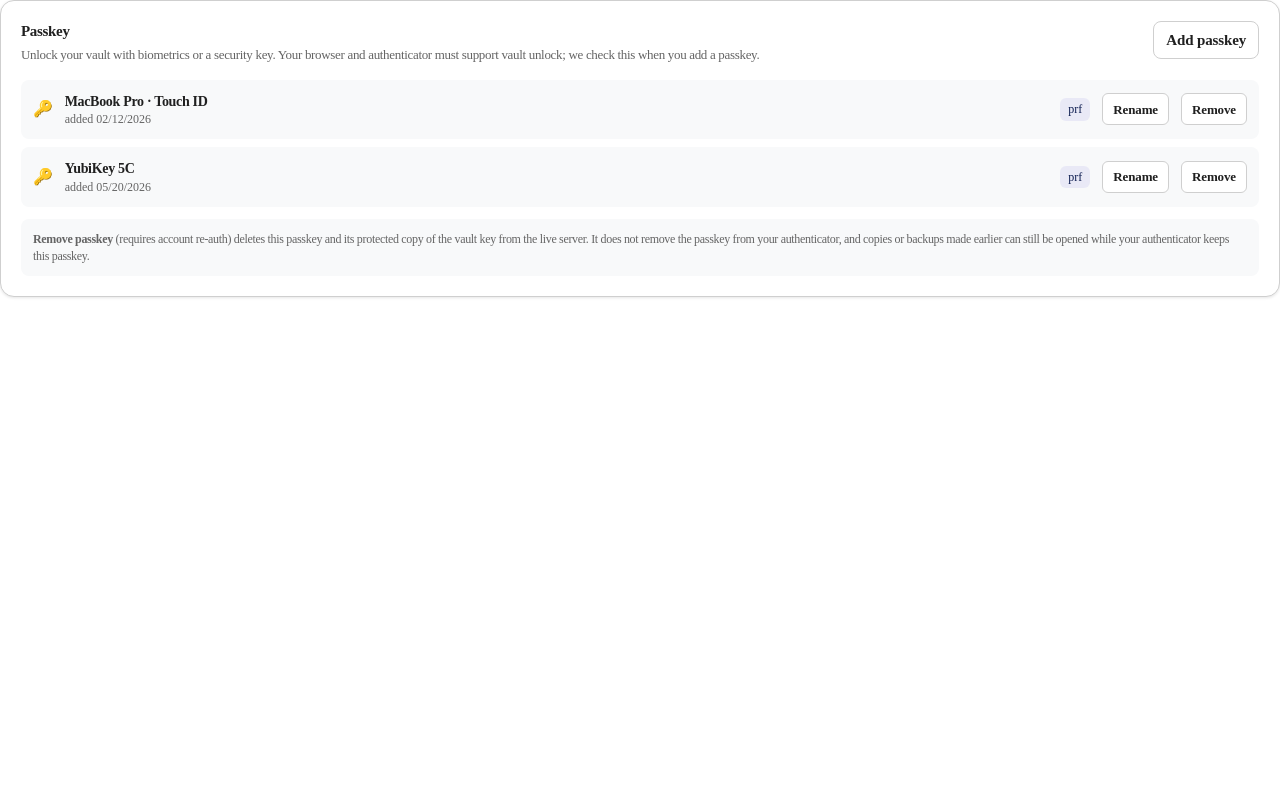
Test: P03-T20B Settings passkey list, rename, revoke and auto-lock (Task 20 20B) › 20B: revoke passkey acquires vault.passkey_revoke grant when needed, deletes on server, and reloads list + vaultMeta
Expected: the list with test id "settings-passkey-list" is shown, top-left (21, 80), bottom-right (1259, 207)
# Clicking Remove without a grant opens the re-auth dialog and begins vault.passkey_revoke
Click the button "Remove" in the row of "MacBook Pro · Touch ID" at [1214, 109], box top-left (1181, 93), bottom-right (1247, 125)
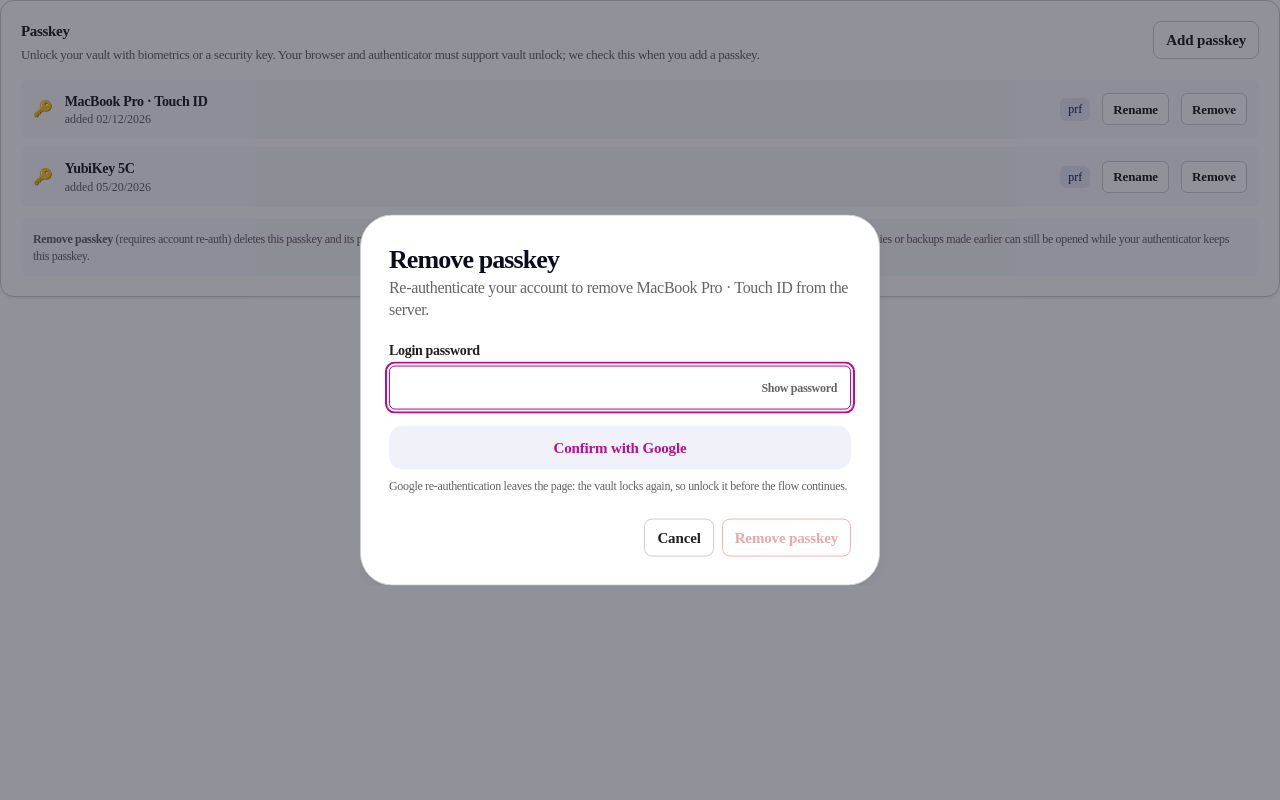
Result: the dialog shows "Remove passkey" at top-left (389, 245), bottom-right (559, 274)
Type "correct-login-pass" into the password field labelled "Login password" at [620, 388], box top-left (389, 365), bottom-right (851, 410)
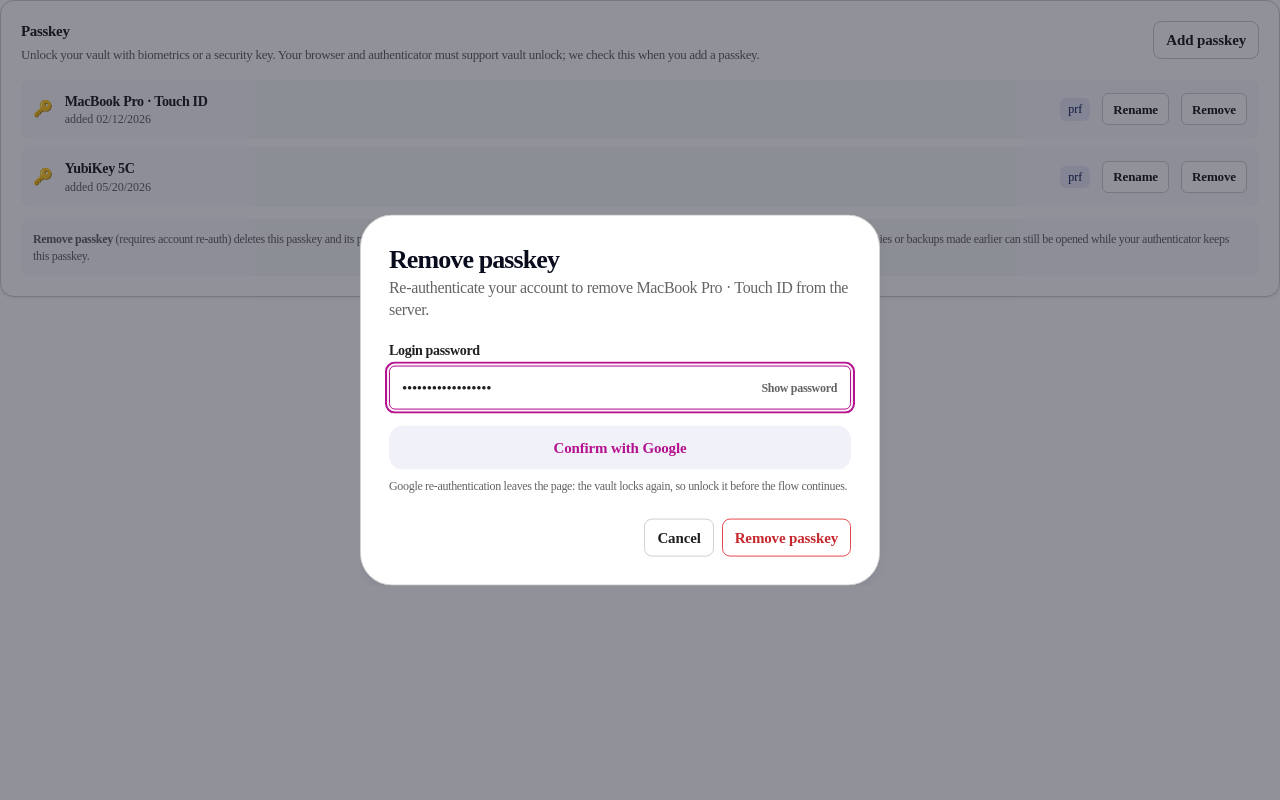
Click the button with test id "settings-passkey-revoke-confirm" at [786, 537], box top-left (722, 518), bottom-right (851, 556)
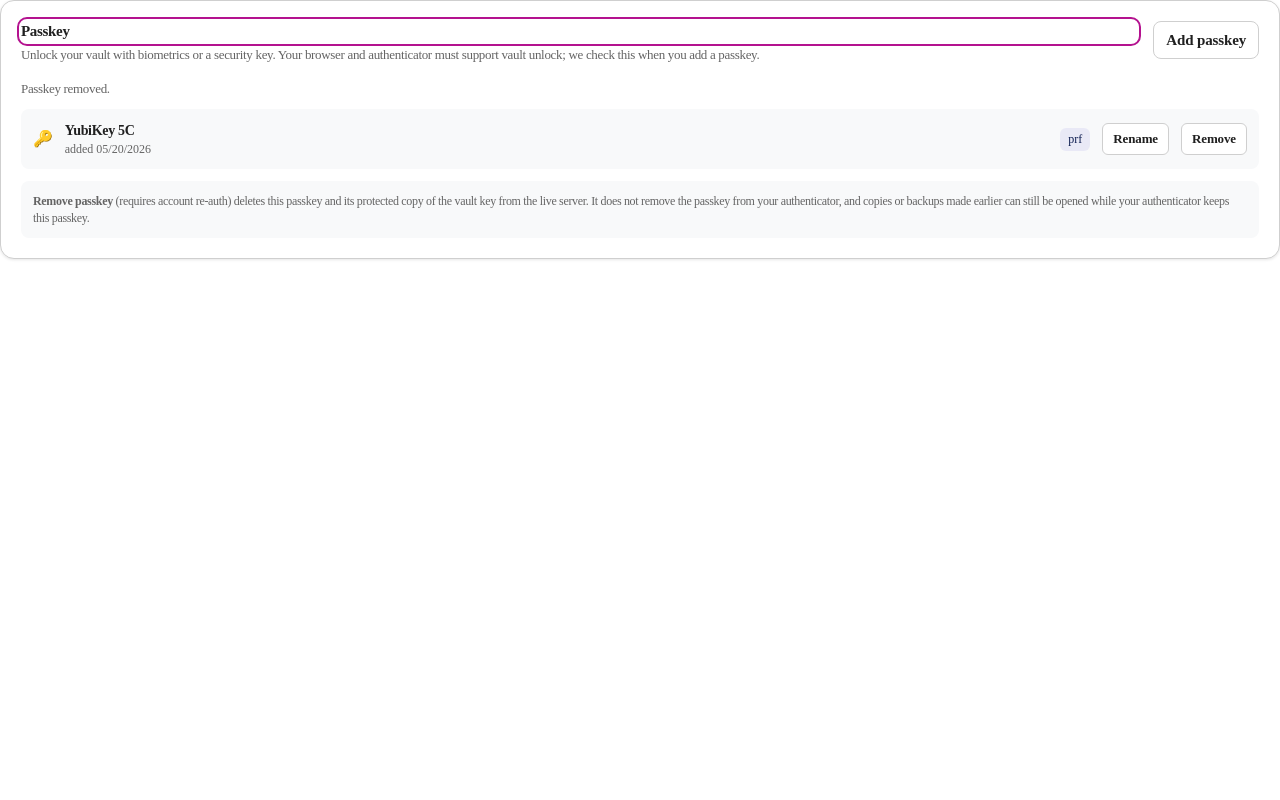
Result: the message with test id "settings-passkey-status" reads "Passkey removed." at top-left (21, 80), bottom-right (110, 96)
